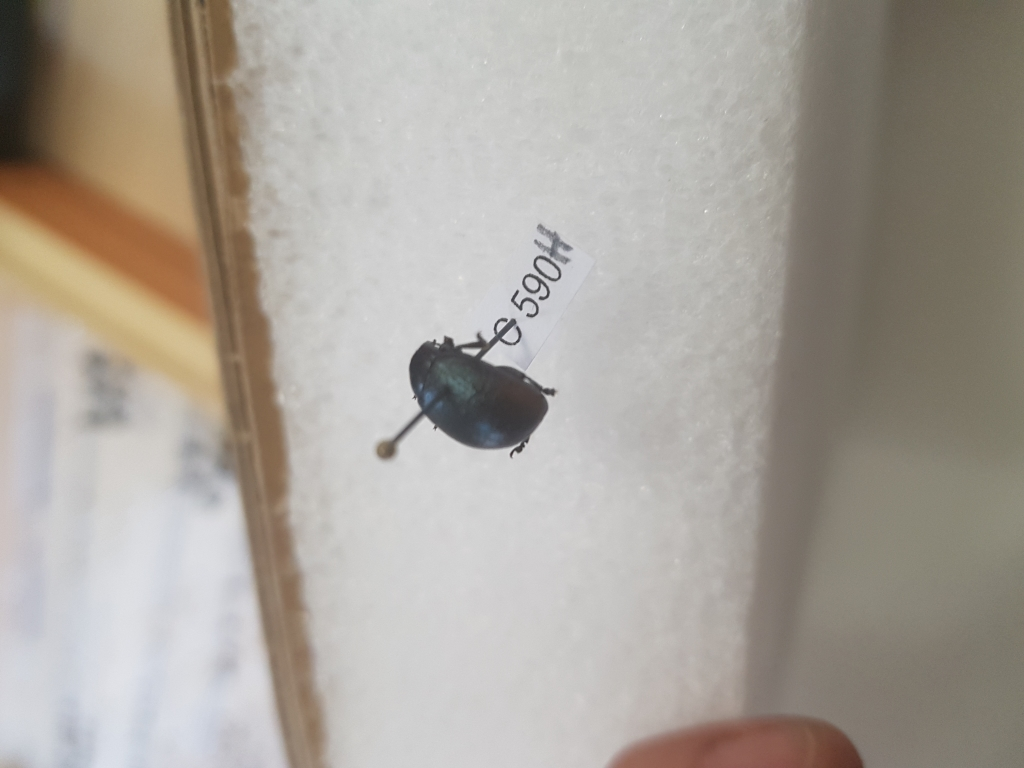Chrysolina_oricalcia: (401, 331, 562, 461)
